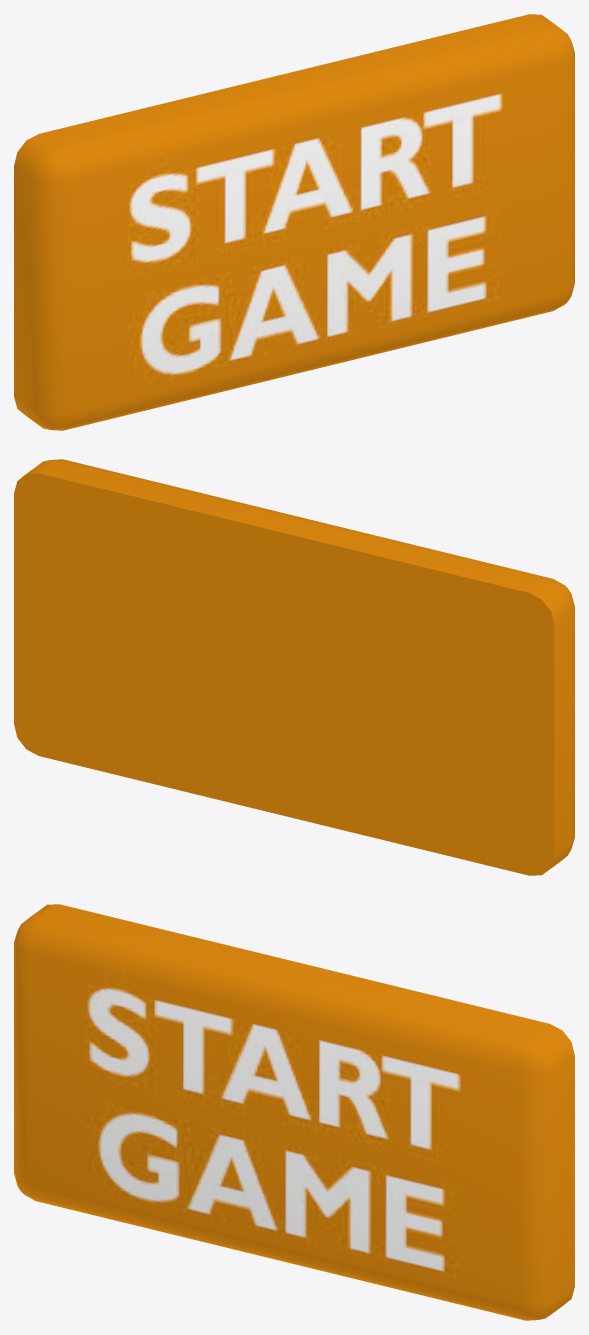
The model's file is startButtonKC.glb.
3 renders of one model, top to bottom at view 1: azimuth 30°, elevation 25°; view 2: azimuth 150°, elevation 25°; view 3: azimuth 330°, elevation 25°, orthographic.
Parts seen in each view (by area): view 1: Cube; view 2: Cube; view 3: Cube.
Part boxes in pixels (bbox=[...]): Cube: bbox=[14, 14, 574, 430]; Cube: bbox=[14, 459, 574, 875]; Cube: bbox=[14, 904, 574, 1320].
Size of the model in its own units: 1 by 0.5 by 0.1.
1 material, 1 textured.
